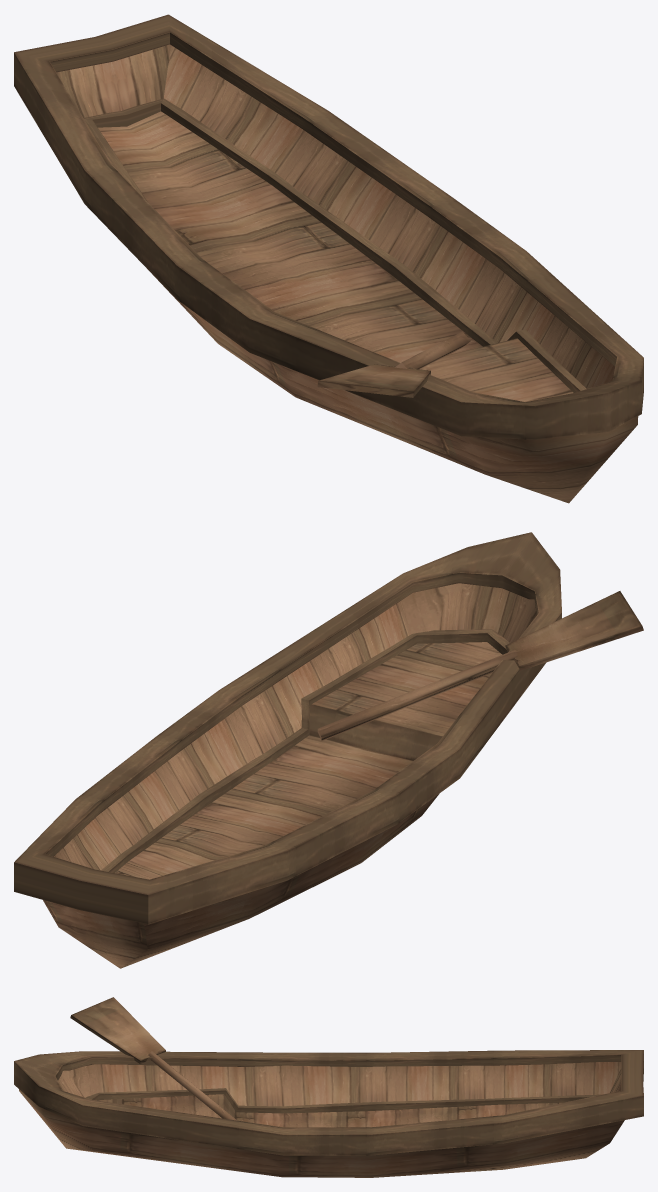
The model's file is szc_object_05a.FBX.
3 views of the same model, one above another, from view 1: azimuth 30°, elevation 25°; view 2: azimuth 150°, elevation 25°; view 3: azimuth 270°, elevation 25° (orthographic). The views are drawn at different scales.
Parts seen in each view (by area): view 1: szc_object_05a; view 2: szc_object_05a; view 3: szc_object_05a.
Boxes of the visible parts, <box> form: szc_object_05a: <box>14,14,643,503</box>; szc_object_05a: <box>14,532,643,968</box>; szc_object_05a: <box>14,997,643,1177</box>.
Bounding box in the file's own units: 251 × 132 × 645.
